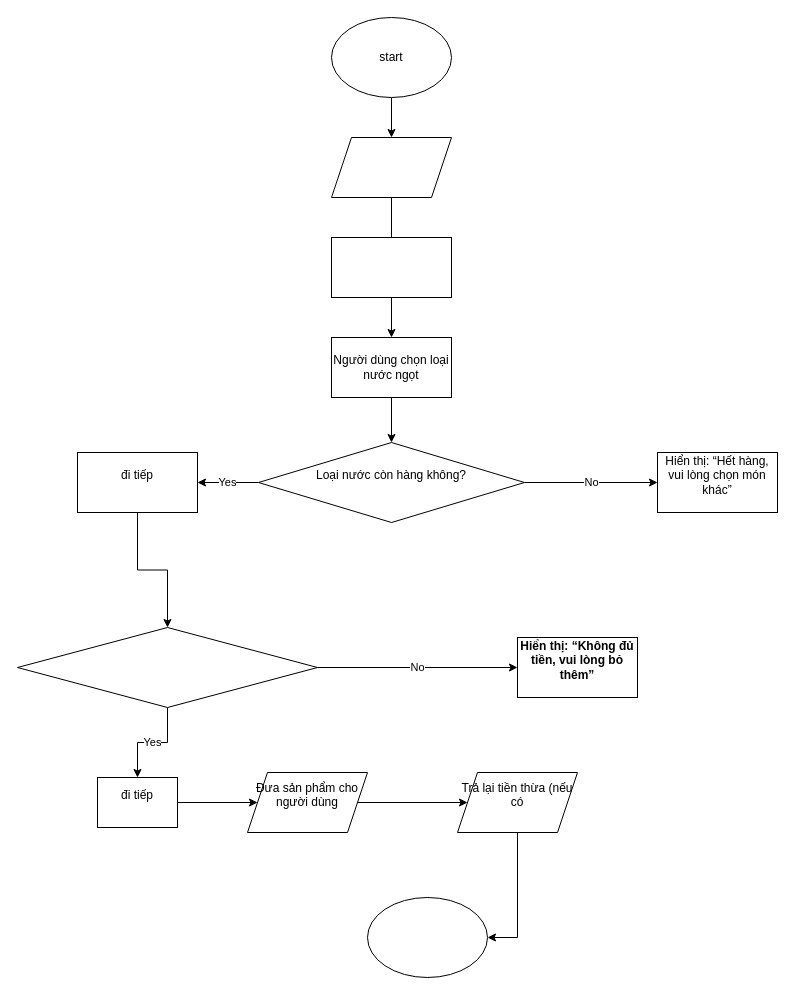
This 795x995 diagram has some shape labels left out. The box of each missing label's shape, as (x1, y1, x2, y2) in pixels:
Cộng dồn và hiển thị tổng tiền: (330, 236, 452, 298)
end: (366, 896, 488, 978)
người dùng bỏ tiền: (330, 136, 452, 198)
Số tiền đã nhập có đủ không?: (16, 626, 318, 708)
